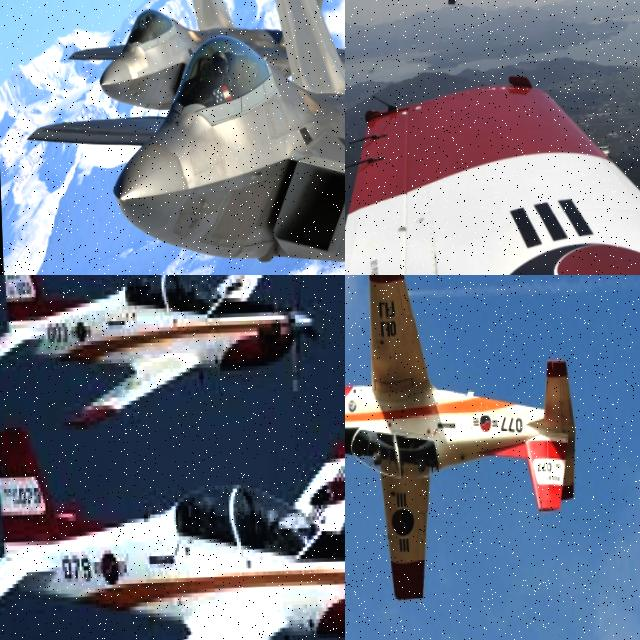F22: (16, 0, 345, 274), (70, 0, 345, 125)
KT-1: (0, 408, 345, 640), (345, 275, 584, 608), (0, 275, 317, 429)
